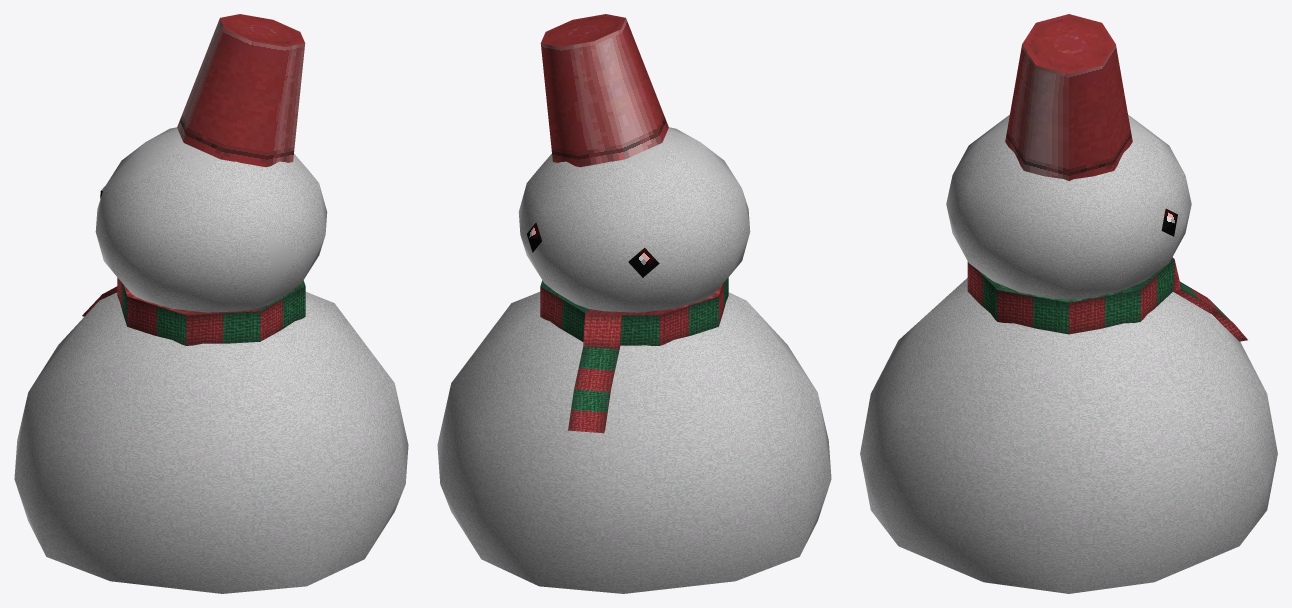
File: snowman.fbx
3 views of the same model, side by side, from view 1: azimuth 30°, elevation 25°; view 2: azimuth 150°, elevation 25°; view 3: azimuth 270°, elevation 25° (orthographic). The views are drawn at different scales.
Parts seen in each view (by area): view 1: mesh_0, mesh_1, mesh_2, mesh_3; view 2: mesh_0, mesh_1, mesh_2, mesh_3; view 3: mesh_0, mesh_1, mesh_2, mesh_3.
Part boxes in pixels (x1=…): mesh_0: x1=14, y1=292, x2=408, y2=593; mesh_1: x1=95, y1=127, x2=327, y2=312; mesh_2: x1=177, y1=14, x2=305, y2=167; mesh_3: x1=82, y1=277, x2=305, y2=345; mesh_0: x1=437, y1=292, x2=831, y2=593; mesh_1: x1=518, y1=127, x2=750, y2=312; mesh_2: x1=540, y1=14, x2=668, y2=167; mesh_3: x1=540, y1=277, x2=728, y2=433; mesh_0: x1=860, y1=278, x2=1277, y2=593; mesh_1: x1=946, y1=114, x2=1191, y2=299; mesh_2: x1=1005, y1=14, x2=1132, y2=180; mesh_3: x1=967, y1=257, x2=1247, y2=341.
Size of the model in its own units: 135 by 179 by 135.
Materials: 2 (2 with a texture image).
